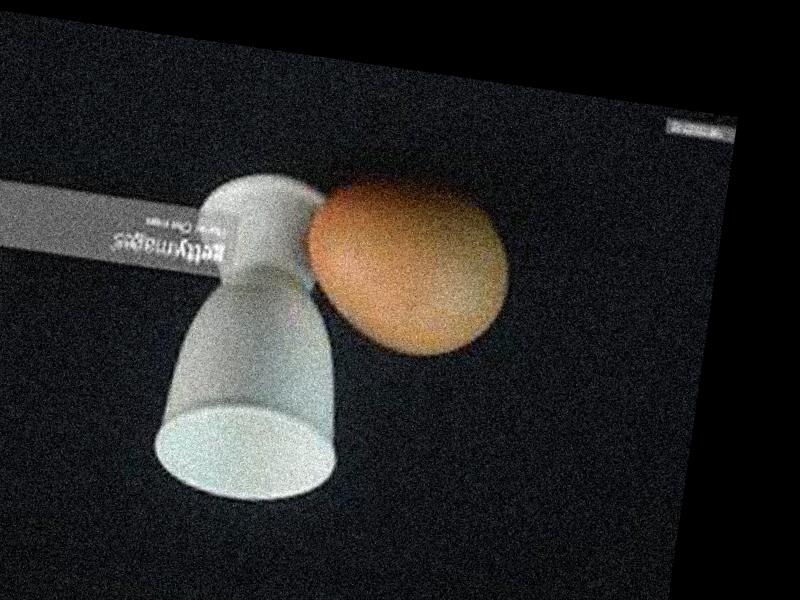Eggs: (292, 175, 516, 366)
